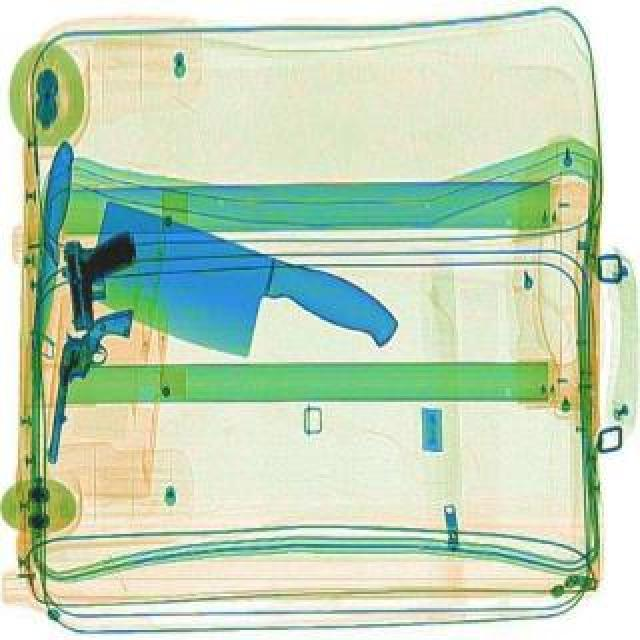gun: (44, 300, 136, 470), (56, 230, 144, 330)
knife: (66, 196, 406, 396), (22, 138, 74, 350)
